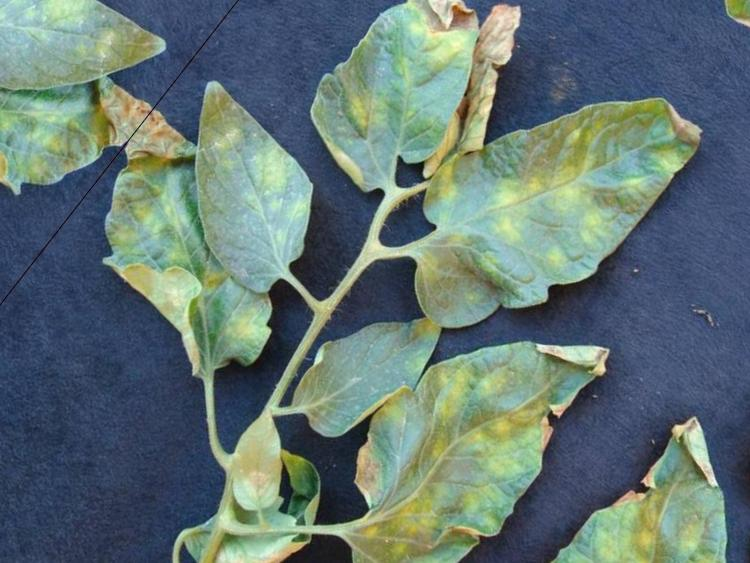Tomato mold leaf: (366, 11, 723, 391), (269, 250, 643, 563), (24, 101, 344, 418), (102, 63, 367, 327), (270, 0, 530, 216), (262, 261, 467, 486), (188, 388, 332, 540)
